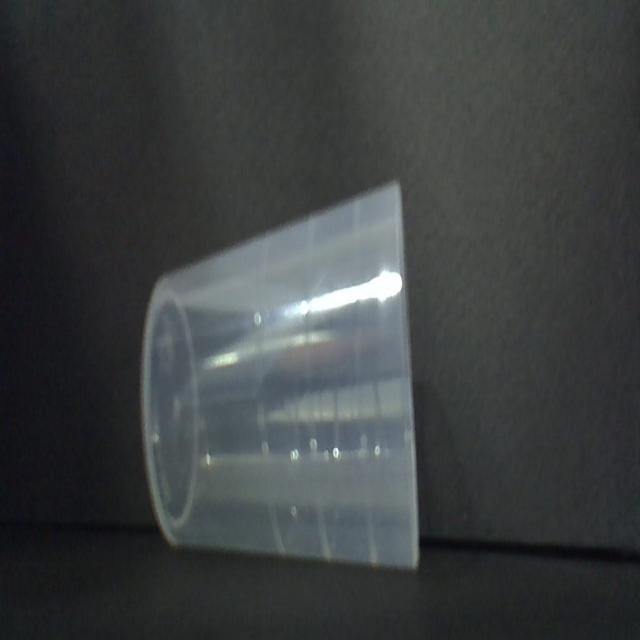bottle: (142, 182, 419, 568)
